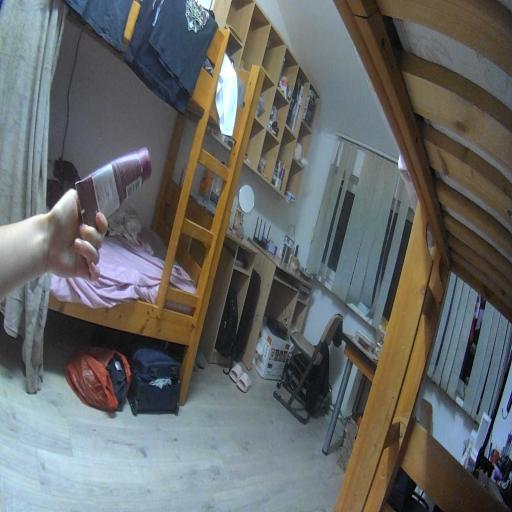Crema Maini: (75, 148, 150, 233)
